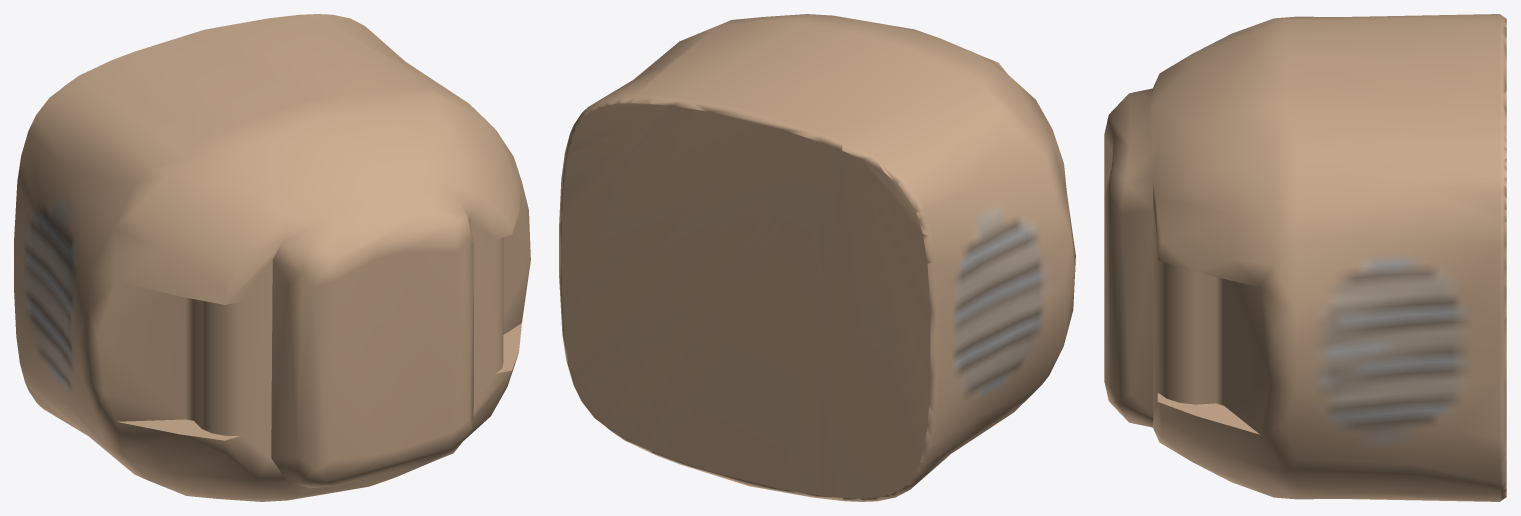
The model's file is link_gripper.3obj.obj.
3 views of the same model, side by side, from view 1: azimuth 30°, elevation 25°; view 2: azimuth 150°, elevation 25°; view 3: azimuth 270°, elevation 25° (orthographic). The views are drawn at different scales.
Parts seen in each view (by area): view 1: link_gripper whole_robot; view 2: link_gripper whole_robot; view 3: link_gripper whole_robot.
Part boxes in pixels (x1,y1,x2,y2): link_gripper whole_robot: (14, 14, 530, 501); link_gripper whole_robot: (559, 14, 1075, 501); link_gripper whole_robot: (1104, 14, 1506, 501).
Size of the model in its own units: 0.0981 by 0.0811 by 0.0742.
